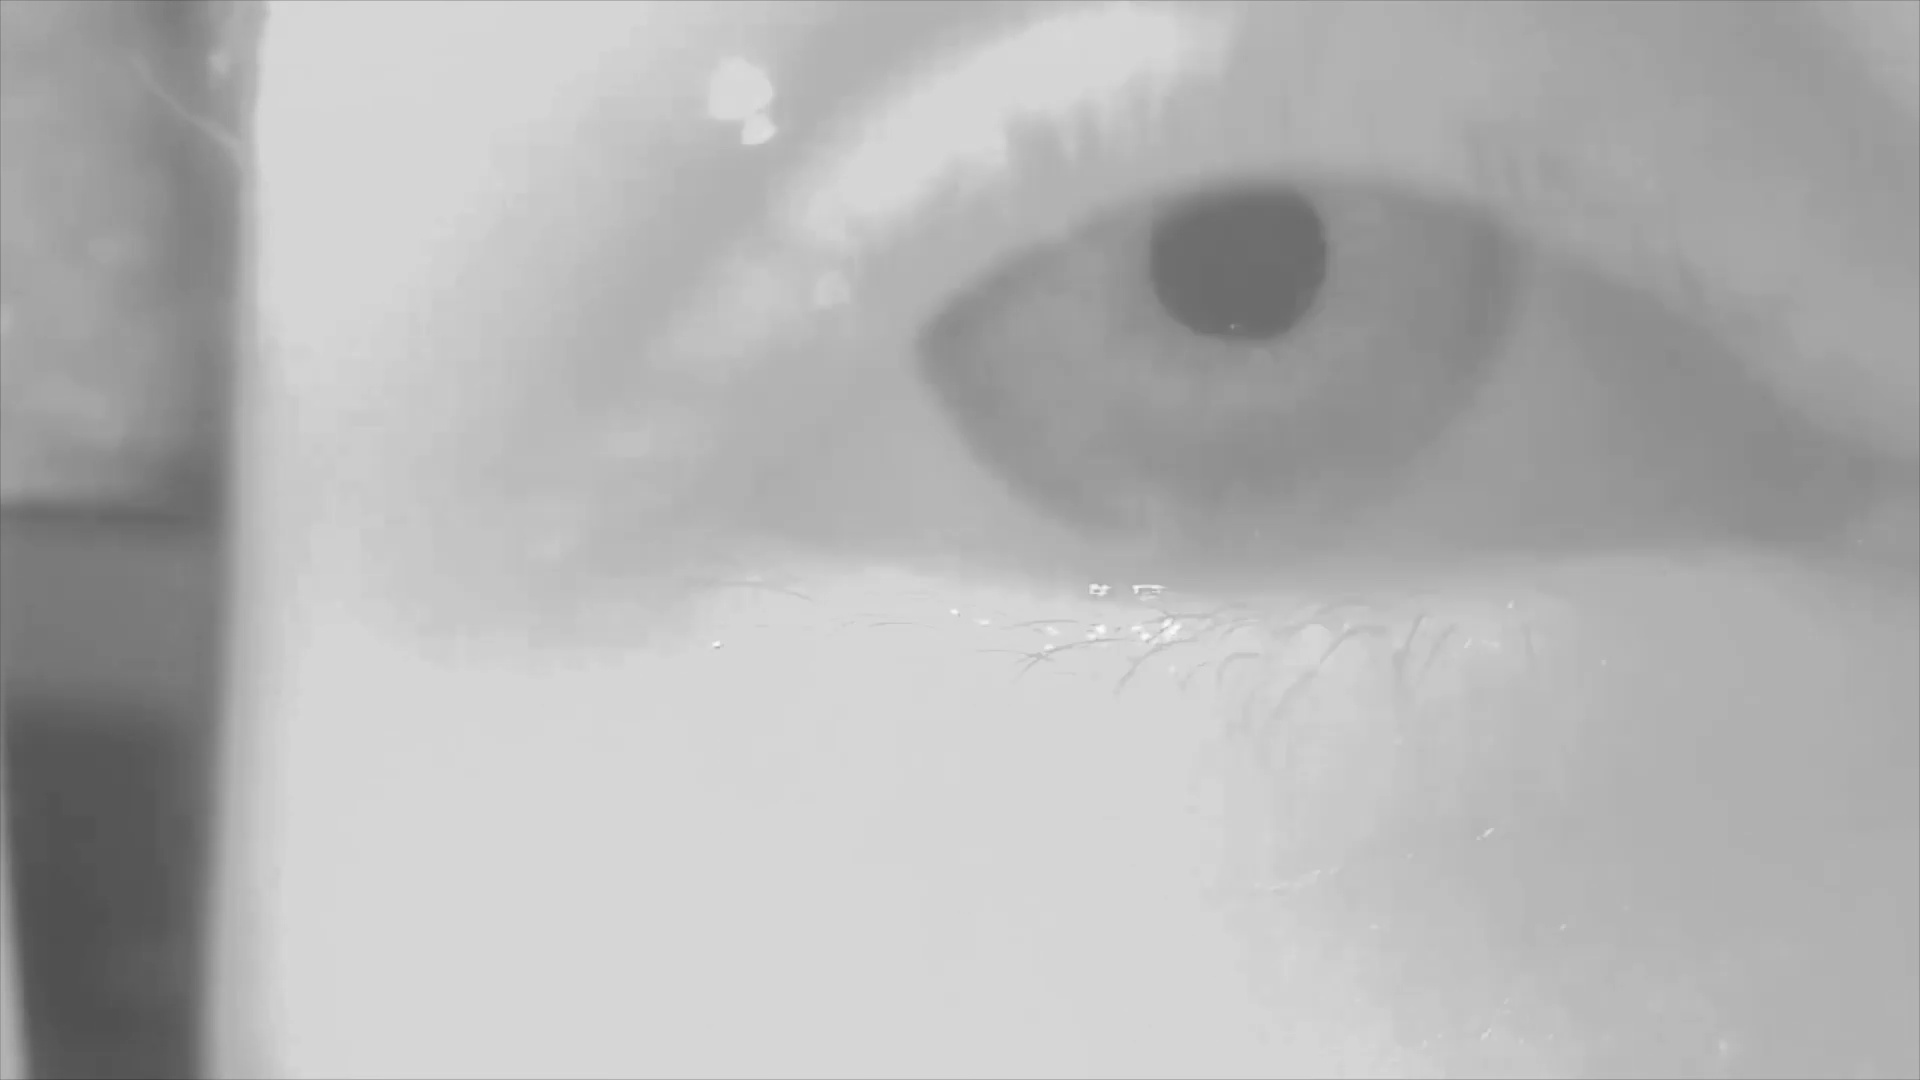pupil: (1149, 193, 1333, 337)
